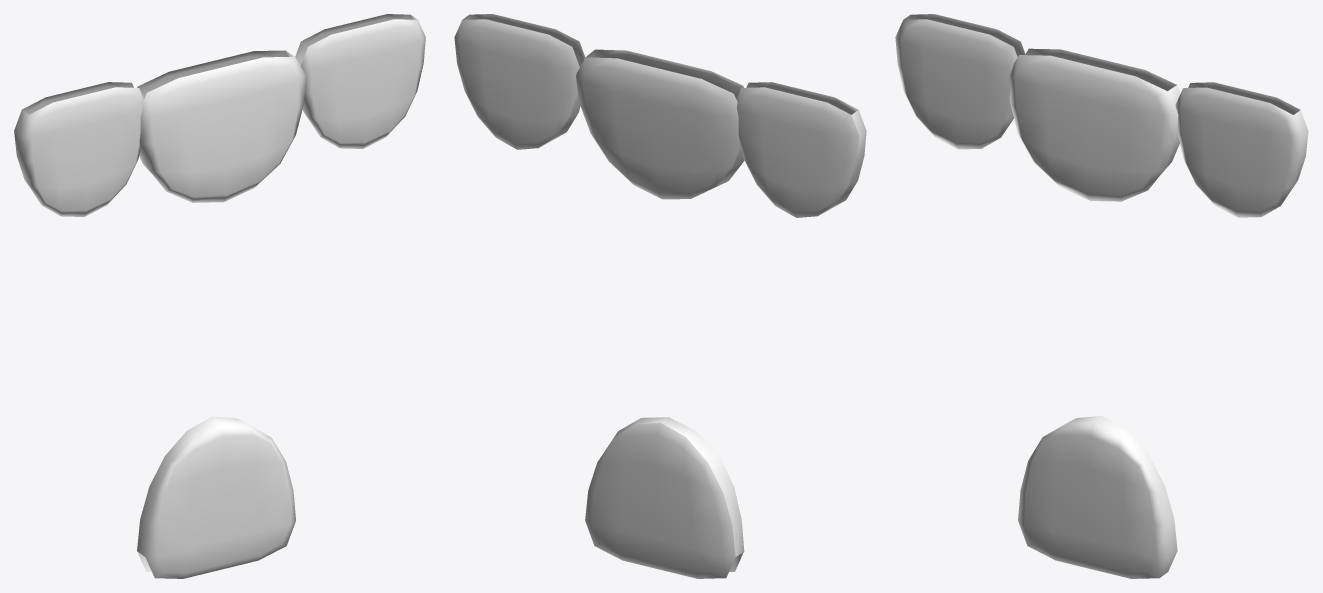
File: teeth.obj
3 views of the same model, side by side, from view 1: azimuth 30°, elevation 25°; view 2: azimuth 150°, elevation 25°; view 3: azimuth 330°, elevation 25° (orthographic).
Visible parts, largest first — view 1: teeth Jake; view 2: teeth Jake; view 3: teeth Jake.
Part boxes in pixels (x1,y1,x2,y2): teeth Jake: (14, 14, 425, 578); teeth Jake: (454, 14, 866, 578); teeth Jake: (895, 14, 1308, 578).
Bounding box in the file's own units: 1.06 × 1.27 × 0.0944.
